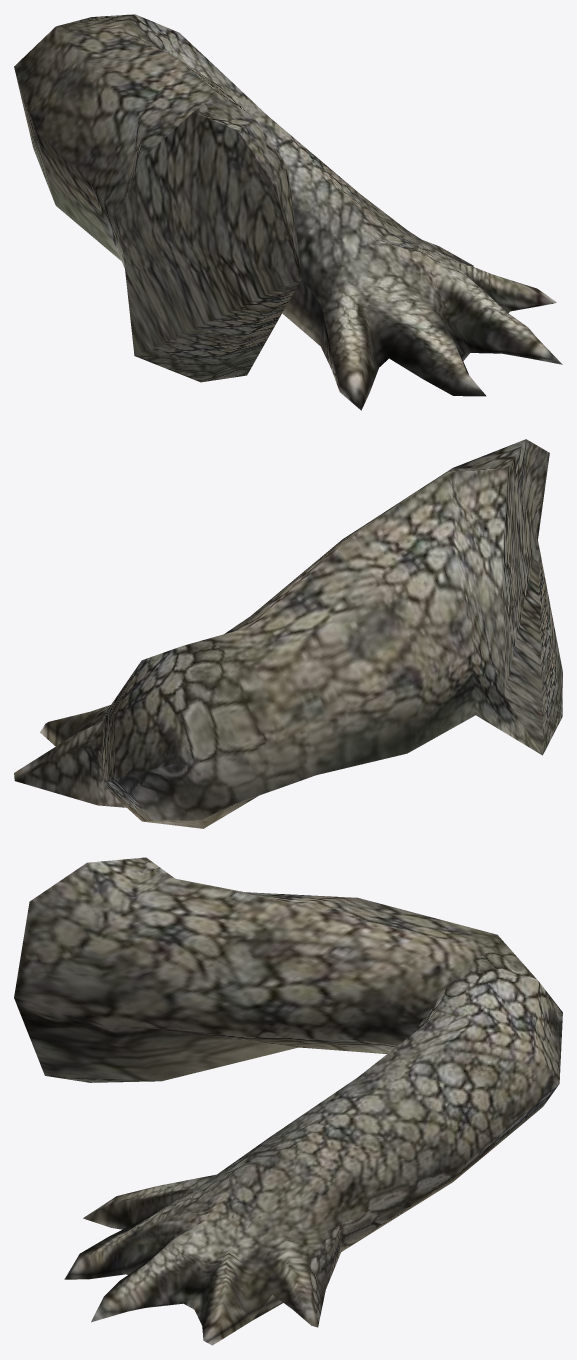
The model's file is pataIzq.obj.
3 renders of one model, top to bottom at view 1: azimuth 30°, elevation 25°; view 2: azimuth 150°, elevation 25°; view 3: azimuth 270°, elevation 25°, orthographic. The views are drawn at different scales.
Visible parts, largest first — view 1: polySurface7 polySurface6 polySurface4 Crocodile1:CrocodieCrocod; view 2: polySurface7 polySurface6 polySurface4 Crocodile1:CrocodieCrocod; view 3: polySurface7 polySurface6 polySurface4 Crocodile1:CrocodieCrocod.
Part boxes in pixels (x1,y1,x2,y2): polySurface7 polySurface6 polySurface4 Crocodile1:CrocodieCrocod: [14, 14, 562, 410]; polySurface7 polySurface6 polySurface4 Crocodile1:CrocodieCrocod: [14, 439, 562, 828]; polySurface7 polySurface6 polySurface4 Crocodile1:CrocodieCrocod: [14, 857, 562, 1345].
Size of the model in its own units: 0.338 by 0.2322 by 0.3784.
1 material, 1 textured.
